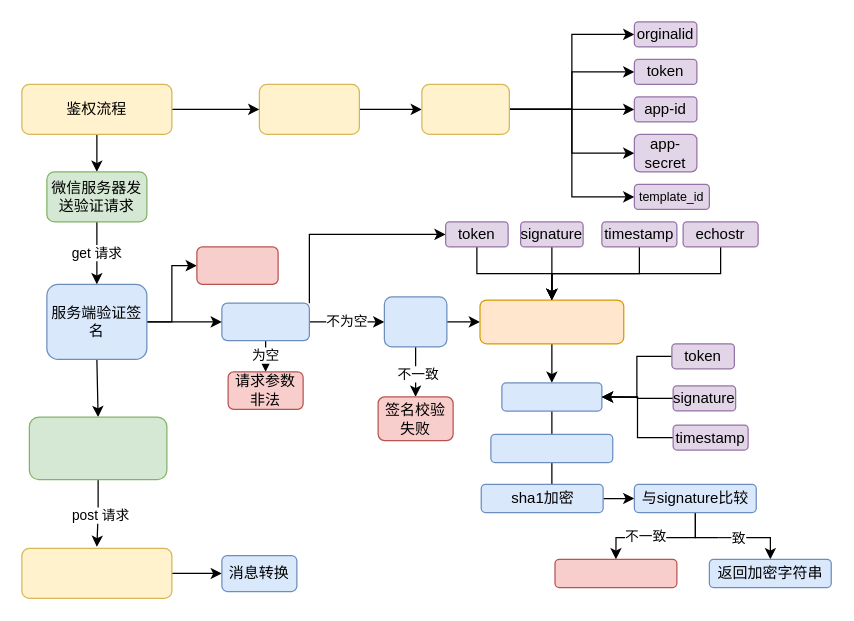
Some shapes in this 854 by 621 pixel diagram are drawn without their labels. Here are the shapes that lost their labels. From the top down, the centre of each, then its label:
At [308,108]: "前置".
At [465,108]: "微信公众号对接配置".
At [237,265]: "抛出异常".
At [265,321]: "检验四个参数是否为空".
At [415,321]: "校验合成签名".
At [551,321]: "SignatureUtil.check".
At [551,396]: "字典排序".
At [97,448]: "验证通过 返回echostr".
At [551,447]: "字节数组转字符串".
At [96,572]: "接收微信公众号信息请求".
At [615,573]: "返回空值tmpStr".
